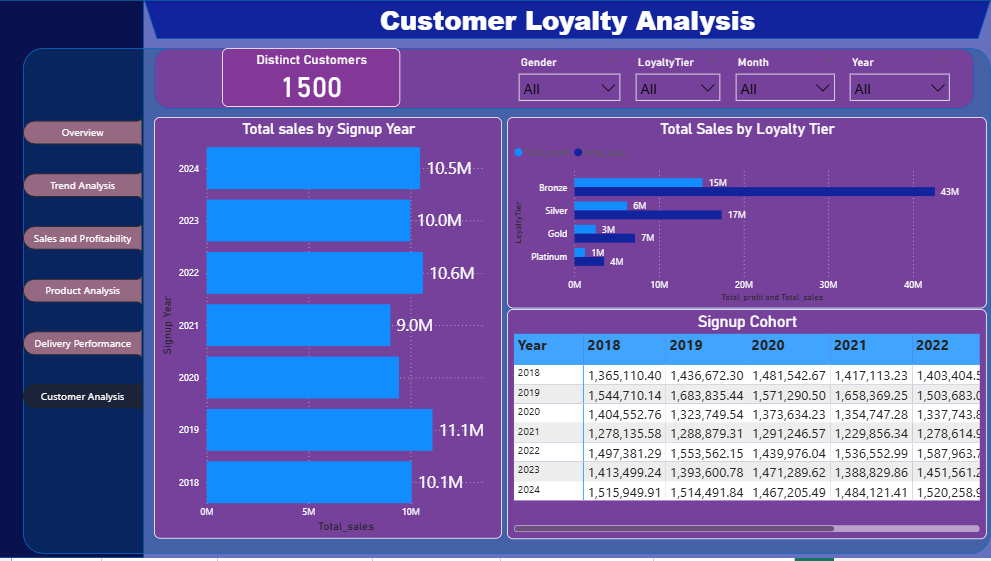

This screenshot's page, from the dashboard's own definition file:
{"tool":"powerbi","page":{"name":"Customer Analysis","canvas":[1280,720],"ordinal":5},"visuals":[{"type":"shape","box":[0,0,187.1,720.2],"z":0},{"type":"shape","box":[31.4,61.3,1248.6,652.6],"z":1000},{"type":"shape","box":[200,61.4,1058.6,78.6],"z":2000},{"type":"slicer","fields":{"Values":["DimDate.Date.Variation.Date Hierarchy.Year"]},"box":[1088.2,67.6,149.4,66],"z":3000},{"type":"slicer","fields":{"Values":["DimCustomer.Gender"]},"box":[660,67.1,151.4,67.1],"z":4000},{"type":"slicer","fields":{"Values":["DimCustomer.LoyaltyTier"]},"box":[811.4,67.1,128.6,67.1],"z":5000},{"type":"slicer","fields":{"Values":["DimDate.Date.Variation.Date Hierarchy.Month"]},"box":[940.3,67.6,147.8,66],"z":6000},{"type":"pageNavigator","box":[31.4,141.5,154.1,402.6],"z":7000},{"type":"pivotTable","title":"Signup Cohort","fields":{"Rows":["DimCustomer.SignupDate.Variation.Date Hierarchy.Year"],"Columns":["DimDate.Year"],"Values":["Measure.Total_sales"]},"box":[655.7,398.6,618.6,297.1],"z":8000},{"type":"clusteredBarChart","title":"Total Sales by Loyalty Tier","fields":{"Category":["DimCustomer.LoyaltyTier"],"Y":["Measure.Total_profit","Measure.Total_sales"]},"box":[655.7,151.4,618.6,247.1],"z":9000},{"type":"shape","box":[187.1,0,1092.9,50.3],"z":10000},{"type":"clusteredBarChart","title":"Total sales by Signup Year","fields":{"Y":["Measure.Total_sales"],"Category":["DimCustomer.Signup Year"]},"box":[200,151.4,448.6,544.3],"z":11000},{"type":"card","title":"Distinct Customers","fields":{"Values":["Measure.Distinct_customers"]},"box":[287.1,61.4,230,75.7],"z":12000}]}

Visuals, with their boxes in screenshot pixels (x1, y1, x2, y2), scaled from the page's 1280x720 canvas onto the 991x561 screenshot:
shape: [x1=0, y1=0, x2=145, y2=560]
shape: [x1=24, y1=48, x2=990, y2=556]
shape: [x1=155, y1=48, x2=974, y2=109]
slicer - DimDate.Date.Variation.Date Hierarchy.Year: [x1=843, y1=53, x2=958, y2=104]
slicer - DimCustomer.Gender: [x1=511, y1=52, x2=628, y2=105]
slicer - DimCustomer.LoyaltyTier: [x1=628, y1=52, x2=728, y2=105]
slicer - DimDate.Date.Variation.Date Hierarchy.Month: [x1=728, y1=53, x2=842, y2=104]
pageNavigator: [x1=24, y1=110, x2=144, y2=424]
"Signup Cohort" pivotTable: [x1=508, y1=311, x2=987, y2=542]
"Total Sales by Loyalty Tier" clusteredBarChart: [x1=508, y1=118, x2=987, y2=310]
shape: [x1=145, y1=0, x2=990, y2=39]
"Total sales by Signup Year" clusteredBarChart: [x1=155, y1=118, x2=502, y2=542]
"Distinct Customers" card: [x1=222, y1=48, x2=400, y2=107]
